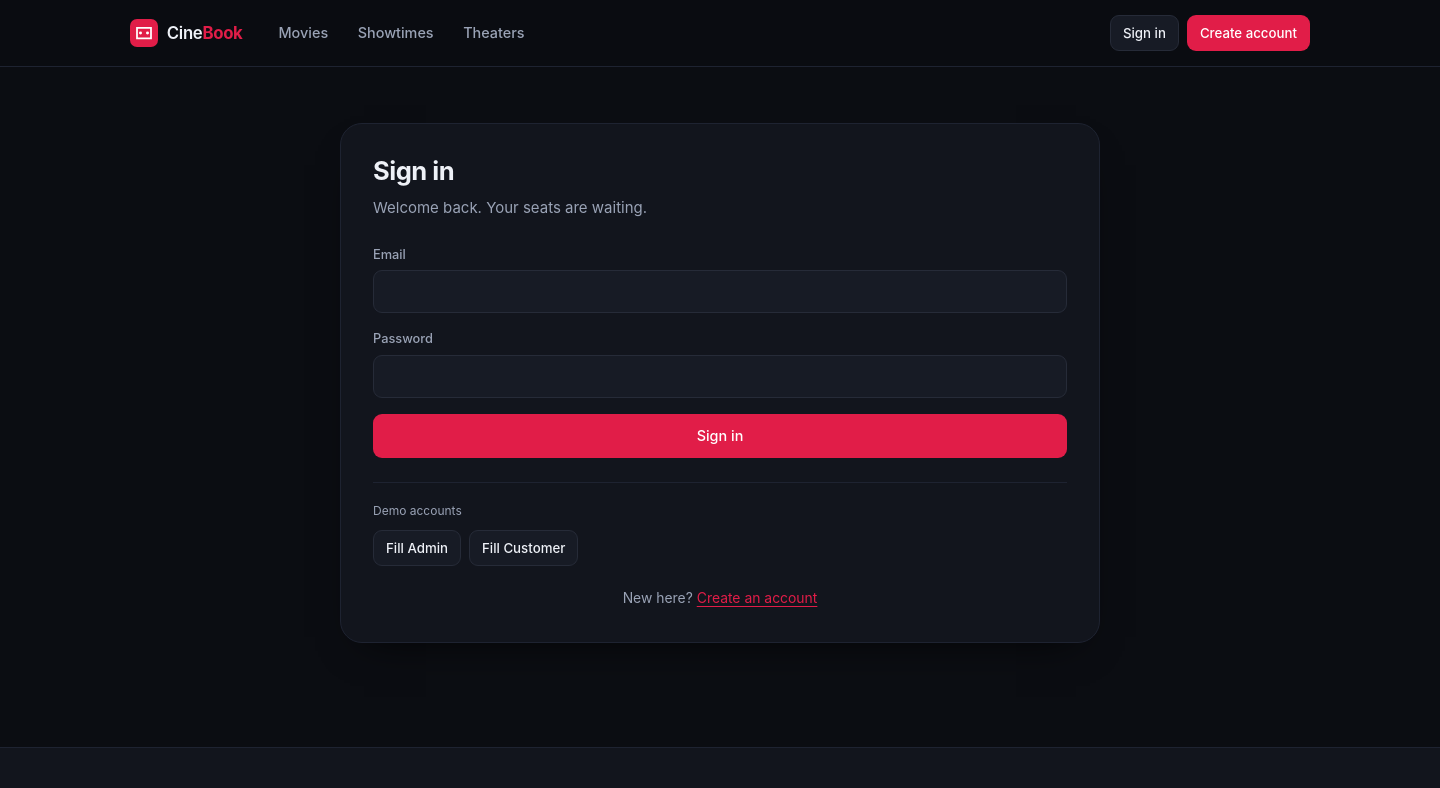
Scenario: authentication › signing in stores the session and reveals the account menu
The image size is (1440, 788).
Click the button "Fill Customer": (524, 548) [469, 530, 578, 566]
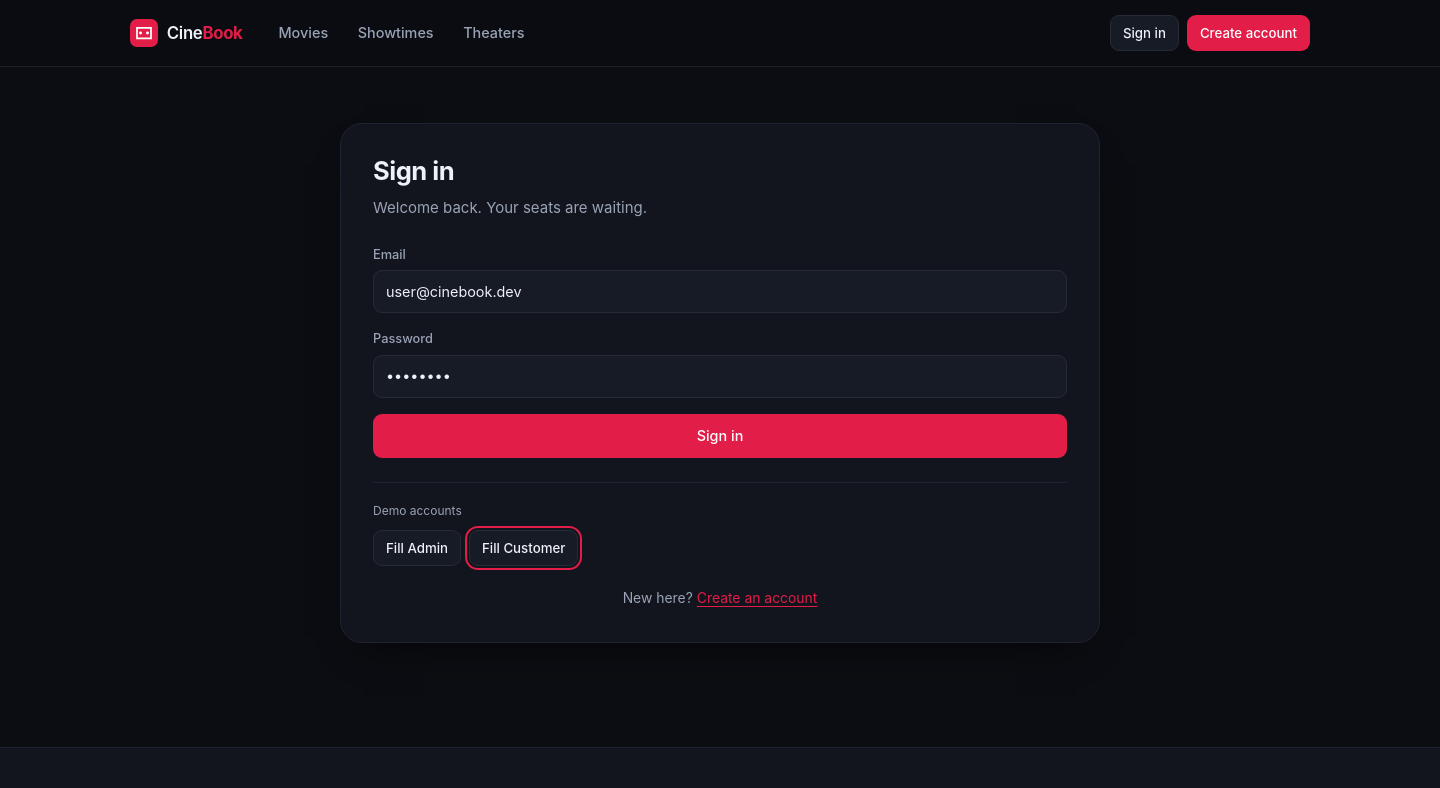
Click the button "Sign in": (720, 436) [373, 414, 1067, 458]
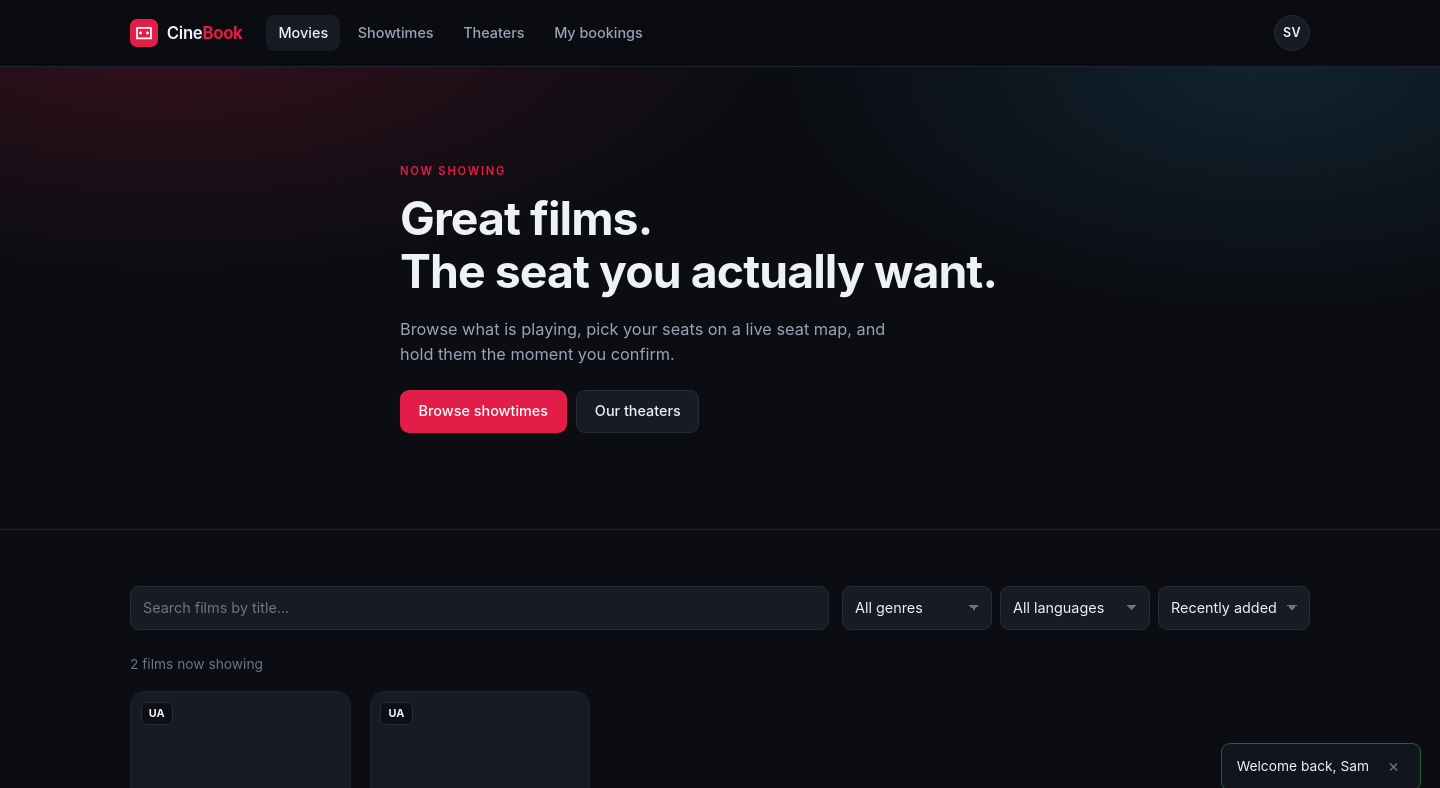
Result: the button "SV" is shown at [1274, 15, 1310, 51]
